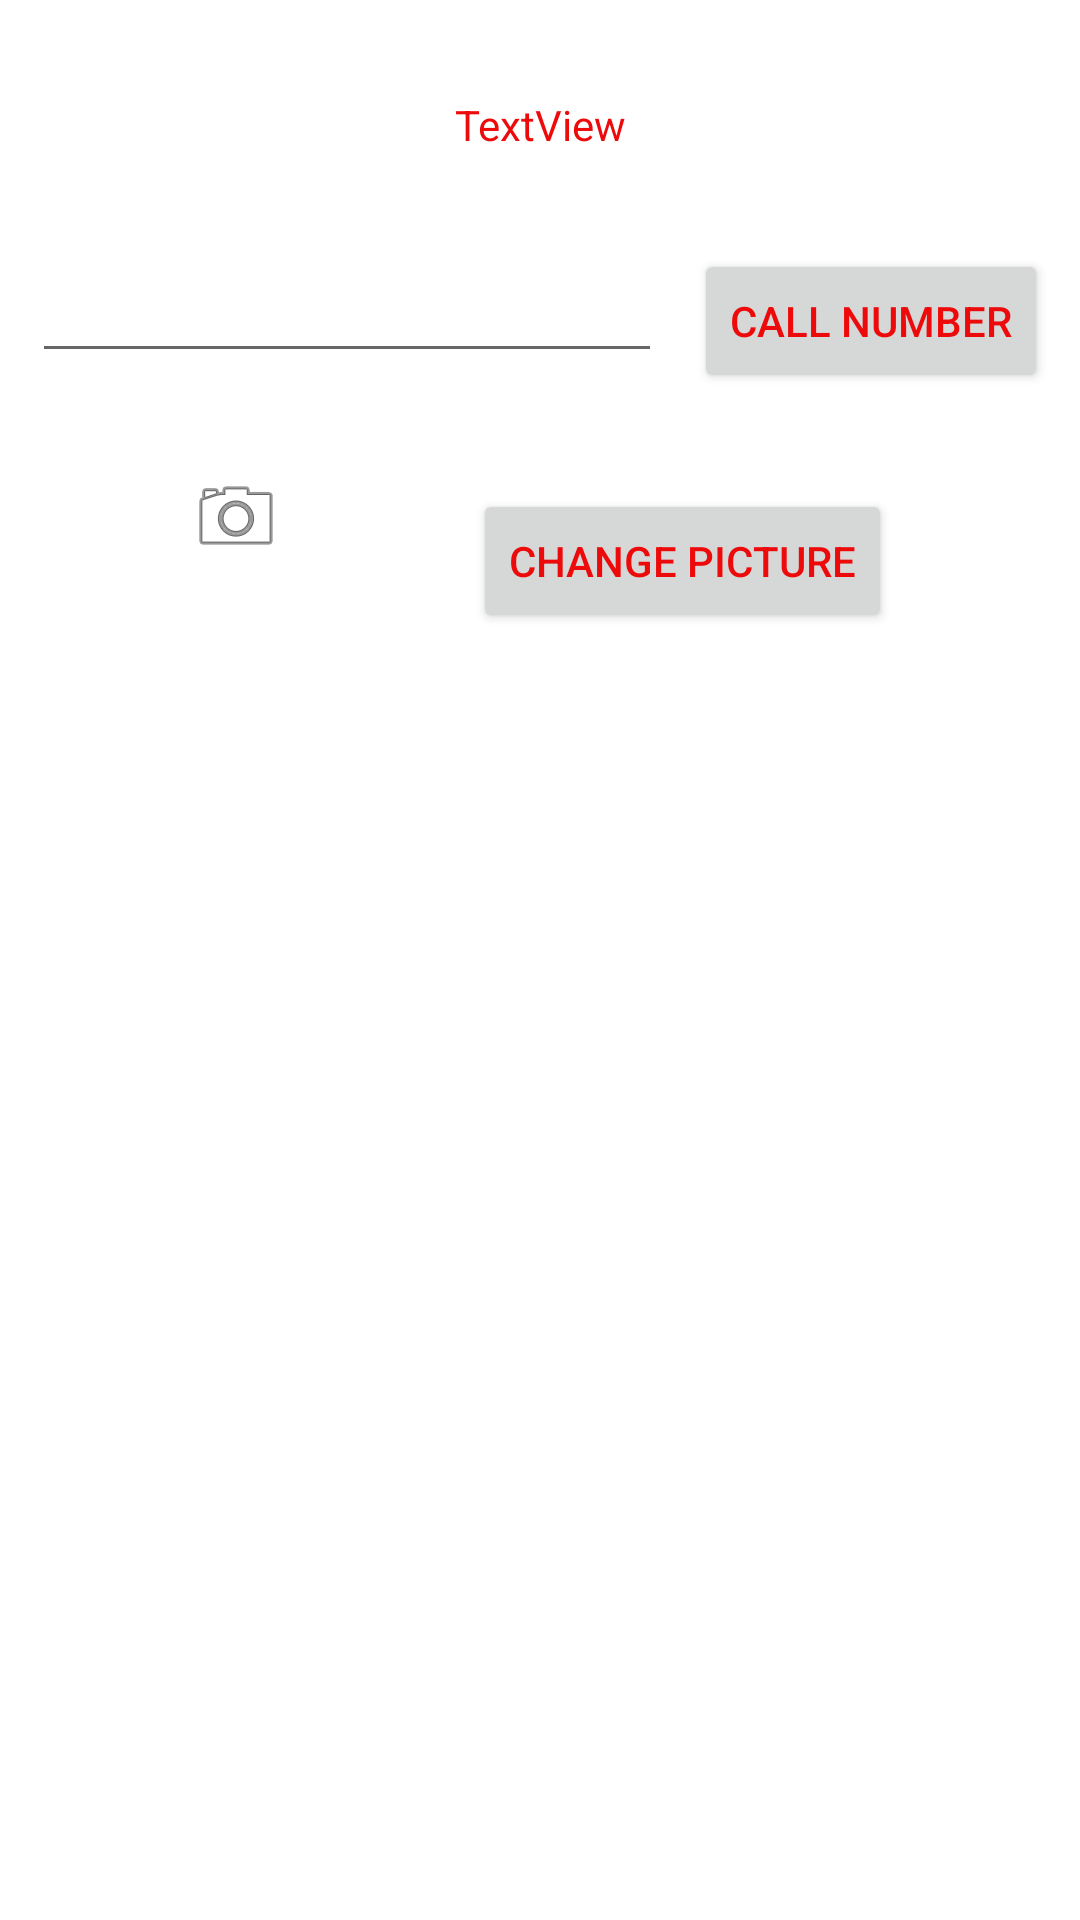

Icons on this 1080×1920 Android screen, each with its box as (x1, y1, x2, y2):
camera: (199, 486, 273, 545)
